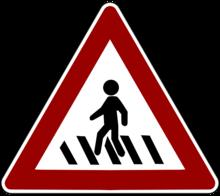Pedestrian Crossing: (12, 18, 206, 182)
